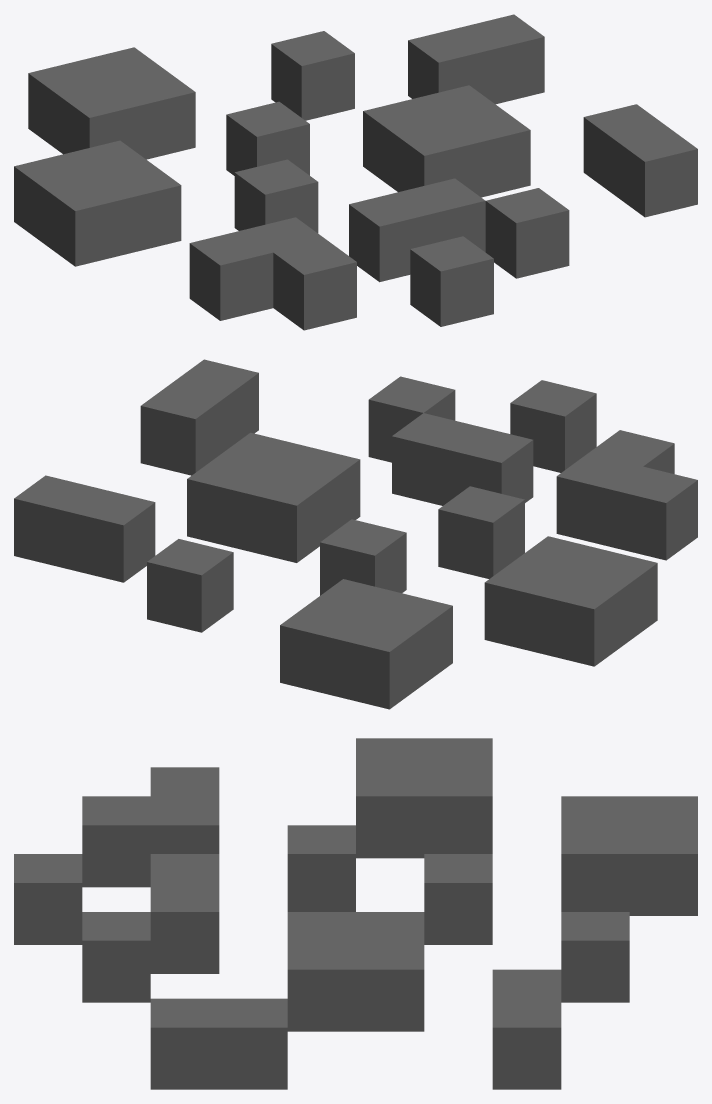
The model's file is stone_03.glb.
The picture shows the model from 3 angles, top to bottom: view 1: azimuth 30°, elevation 25°; view 2: azimuth 150°, elevation 25°; view 3: azimuth 270°, elevation 25°; orthographic projection. The views are drawn at different scales.
Visible parts, largest first — view 1: stone_03; view 2: stone_03; view 3: stone_03.
Boxes of the visible parts, x1=… form: stone_03: x1=14, y1=14, x2=697, y2=330; stone_03: x1=14, y1=359, x2=697, y2=709; stone_03: x1=14, y1=738, x2=697, y2=1089.
Size of the model in its own units: 10 by 1 by 10.
Materials: 1 (1 with a texture image).
